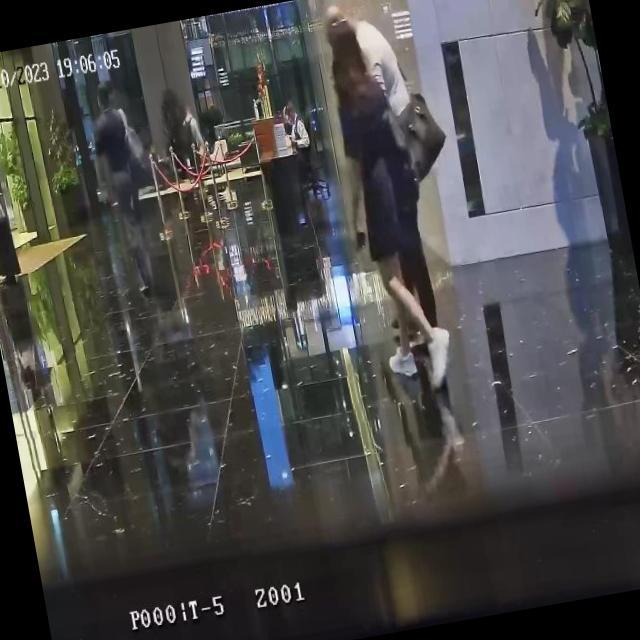person: (318, 0, 456, 359), (85, 79, 156, 297), (0, 147, 24, 288), (178, 102, 212, 199), (282, 100, 312, 167)
